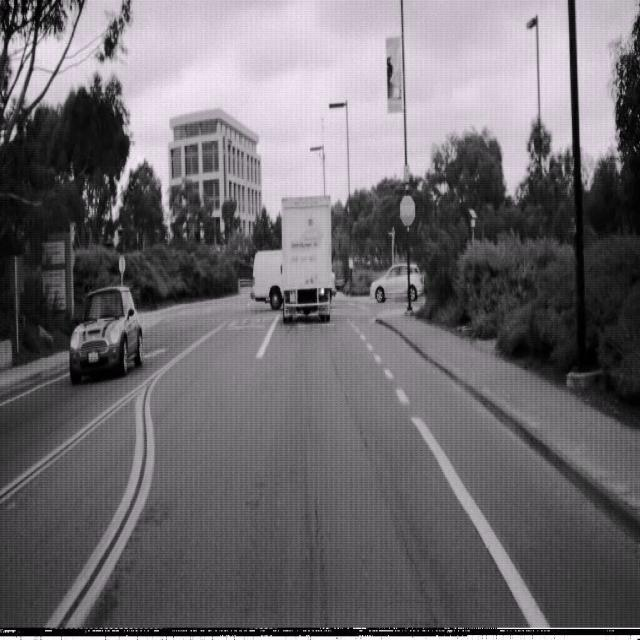stop_sign: (398, 194, 416, 227)
